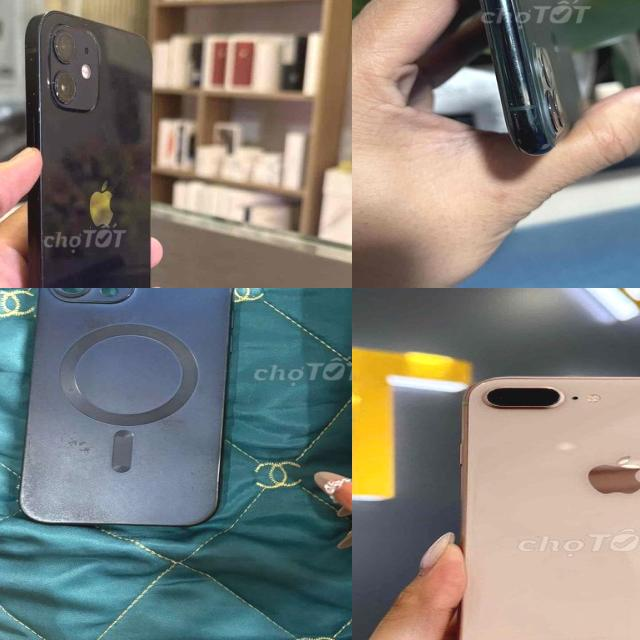gen_11: (455, 0, 602, 161)
gen_12_13: (21, 5, 160, 288)
gen_7_8: (459, 376, 640, 640)
